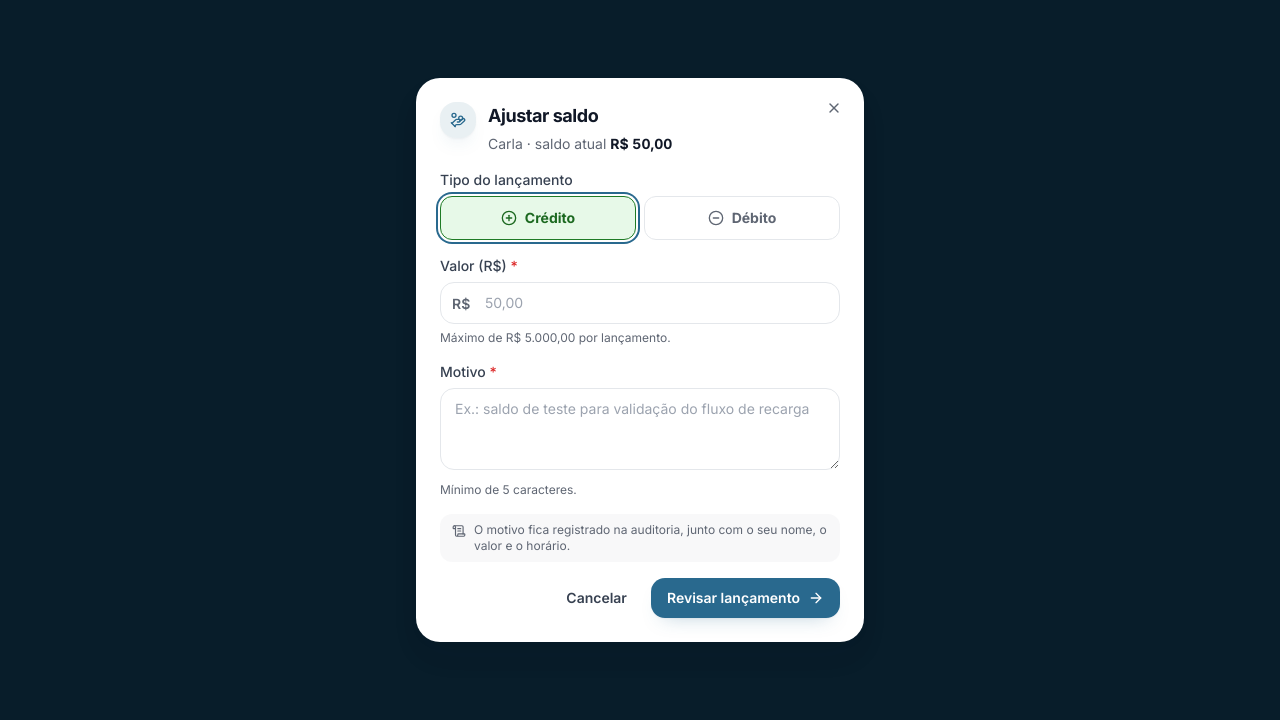
AdjustBalanceDialog — dinheiro real: preencher, CONFIRMAR, só então enviar › acima do teto de R$ 5.000 e débito maior que o saldo são barrados antes do servidor
Step 1. Type "5.000,01" into the field labelled "Valor (R$) *" → (640, 303), box [440, 282, 840, 324]
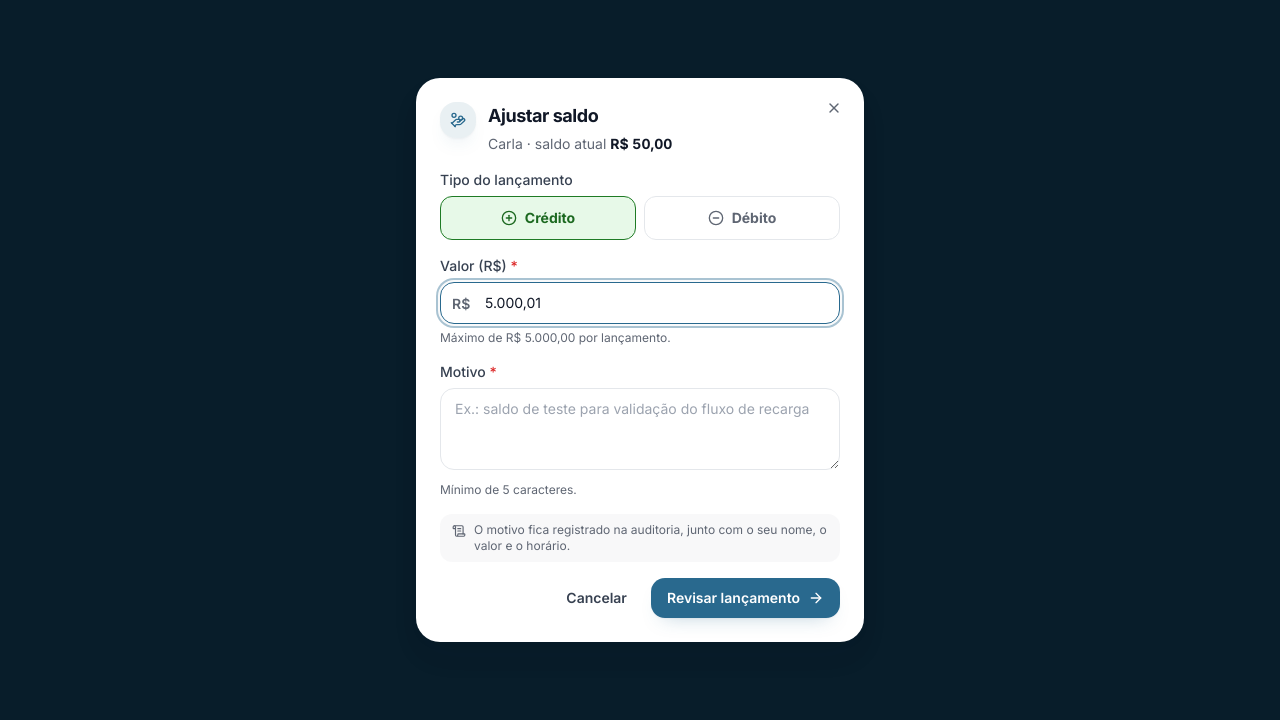
Step 2. Type "Motivo qualquer" into the text box labelled "Motivo *" → (640, 429), box [440, 388, 840, 470]
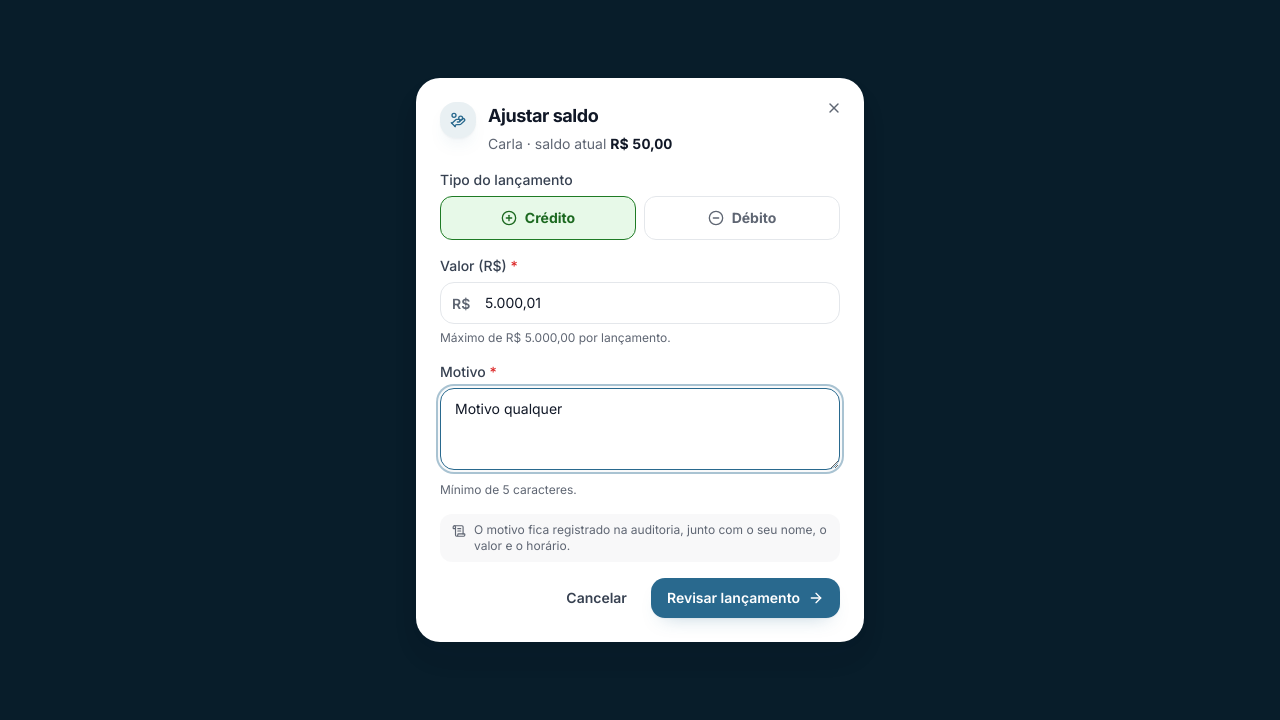
Step 3. Click the button "Revisar lançamento" → (745, 598), box [651, 578, 840, 618]
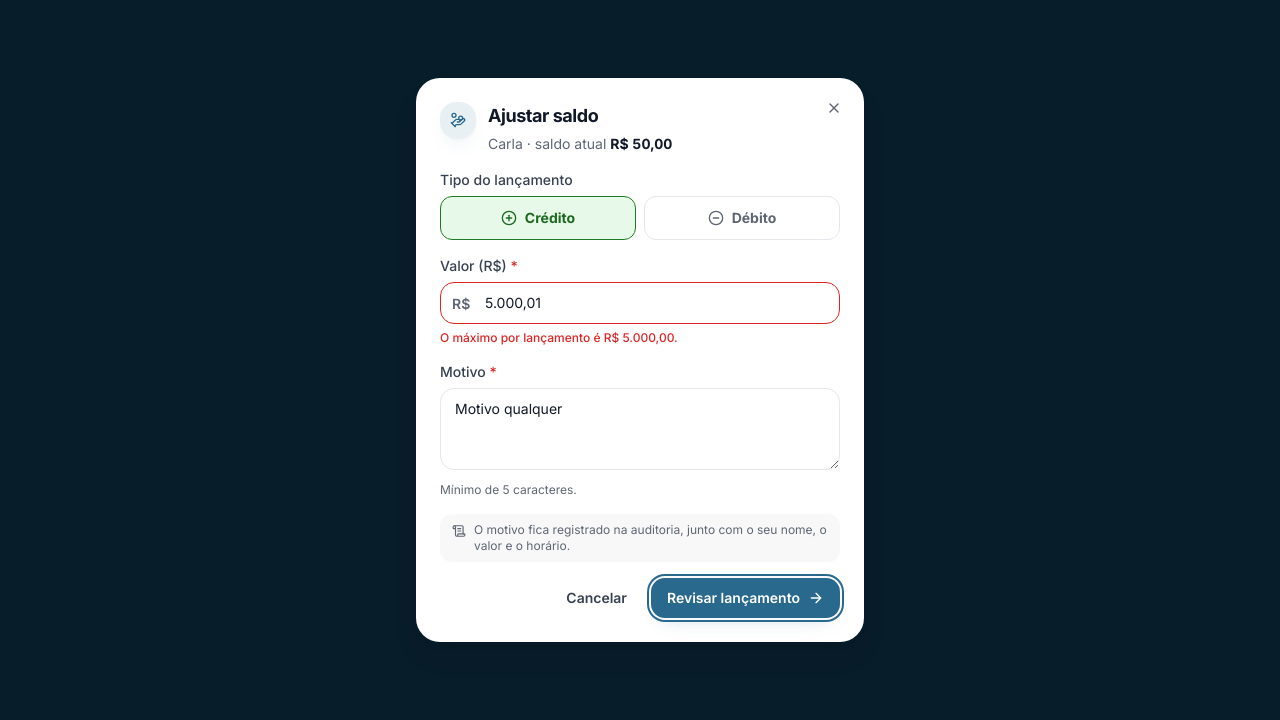
Now the text "O máximo por lançamento é R$ 5.000,00." is shown, box [440, 330, 678, 345]
Step 4. Click the radio button labelled "Débito" → (742, 218), box [644, 196, 840, 240]
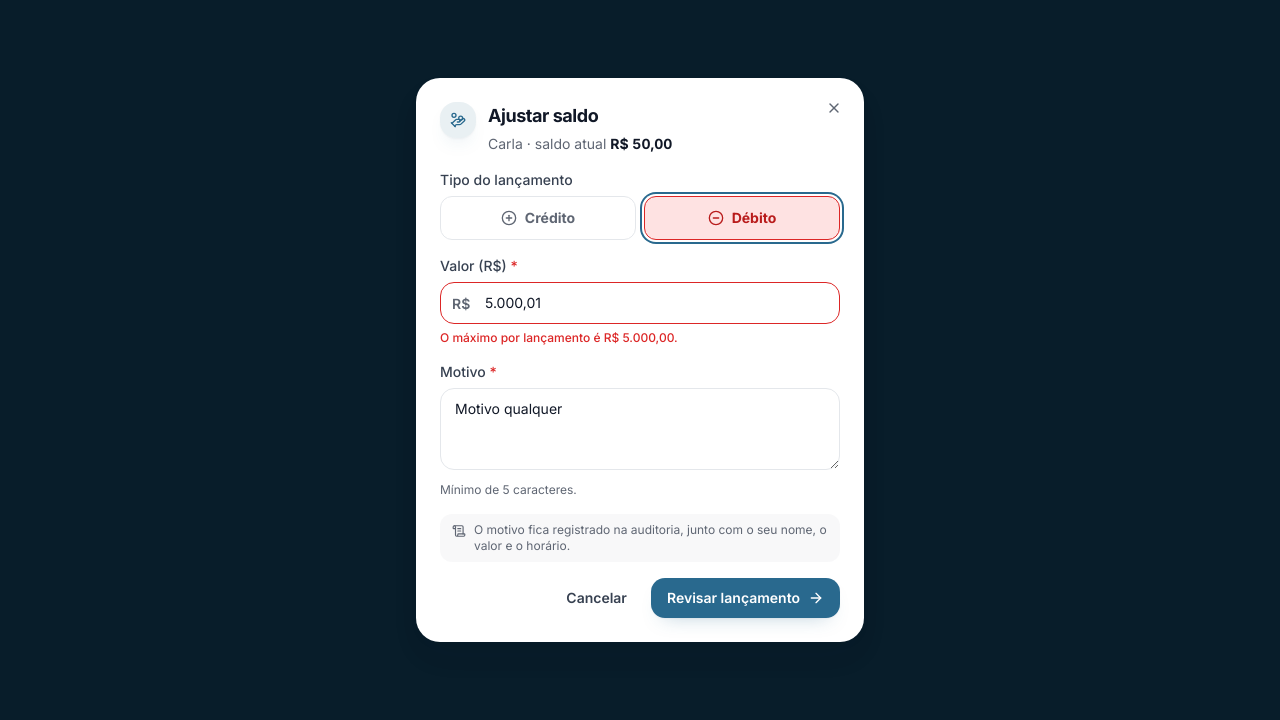
Step 5. Replace the text in the field labelled "Valor (R$) *" with "60" → (640, 303), box [440, 282, 840, 324]
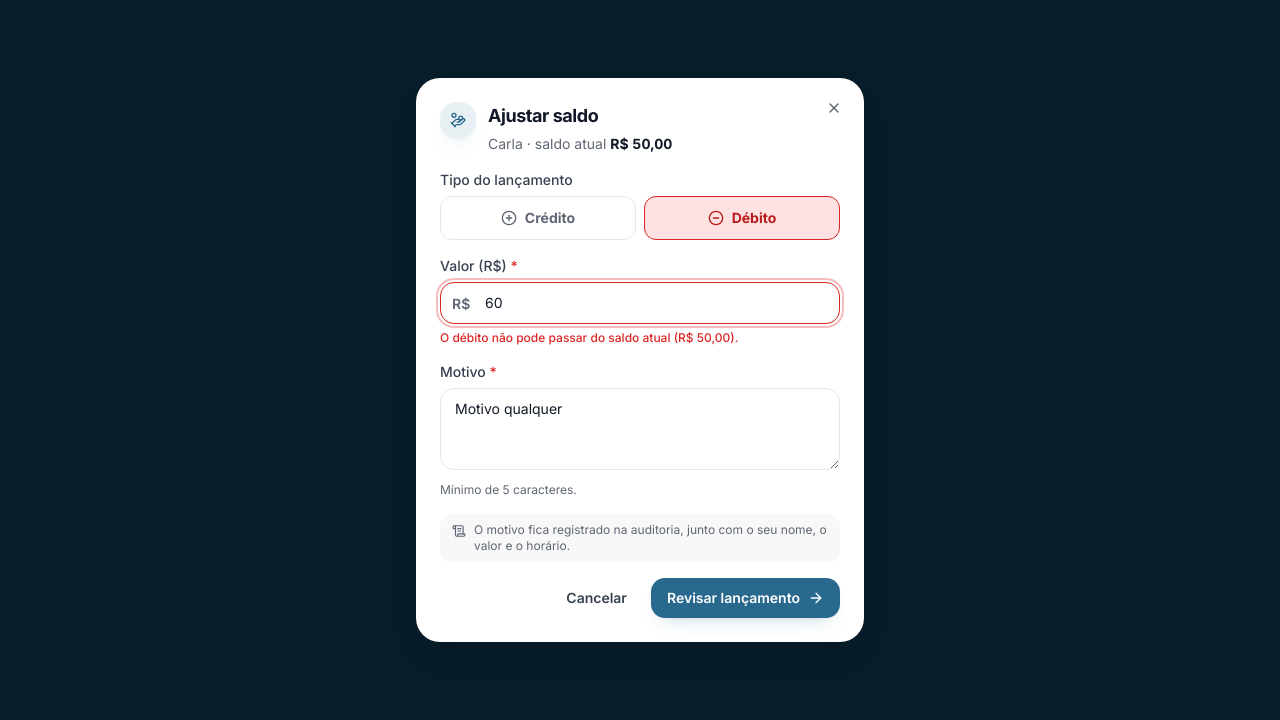
Now the text "O débito não pode passar do saldo atual (R$ 50,00)." is shown, box [440, 330, 738, 345]
